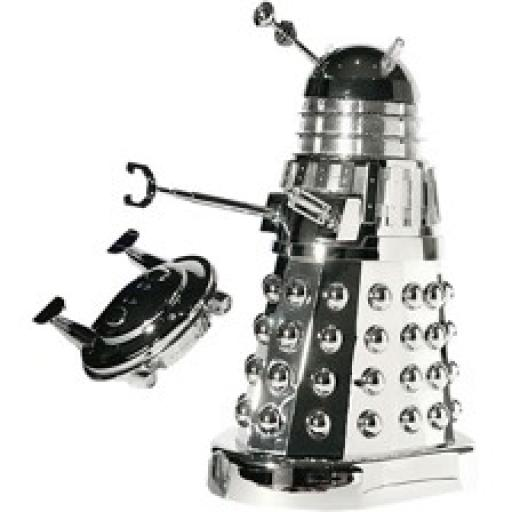dalek: (109, 4, 478, 501)
